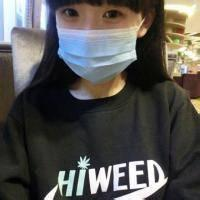face_mask: (56, 1, 138, 81)
